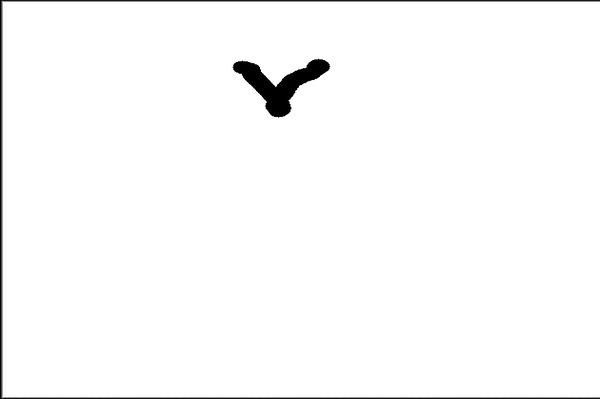V: (218, 43, 335, 117)
